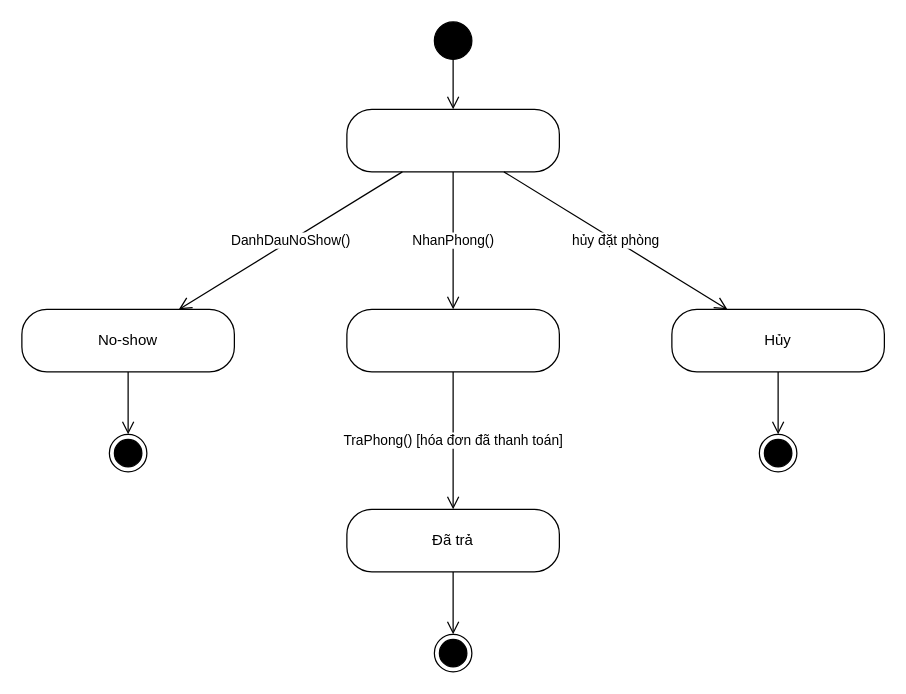
Image size: 906x694. Some labels were removed from this diagram. Here are the shapes that lost their labels. From the top down, the box of each, then its label:
(346, 108, 559, 172): Đã đặt
(346, 308, 559, 372): Đang ở
